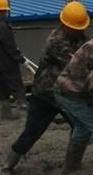gloves: (1, 0, 1, 0), (1, 1, 1, 1)
hard-hat: (59, 0, 90, 30)
